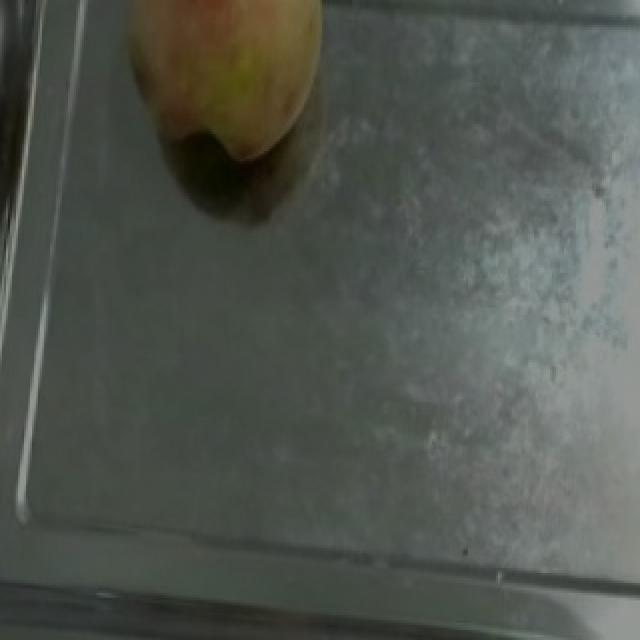Fruit: (106, 2, 338, 174)
